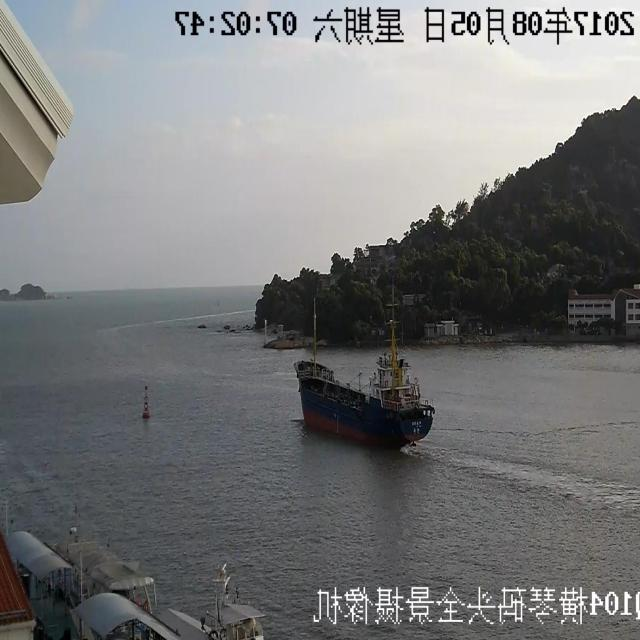buoy: (135, 380, 159, 419)
fishing boat: (296, 274, 454, 439)
